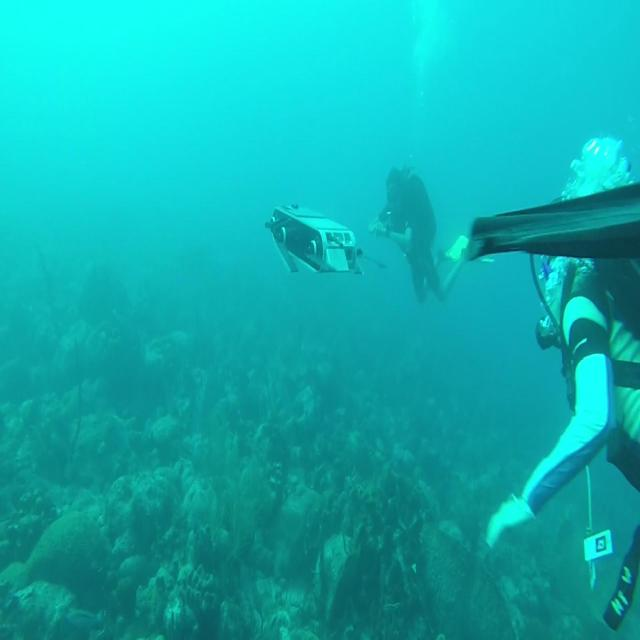human: (484, 250, 639, 631), (368, 163, 467, 303)
